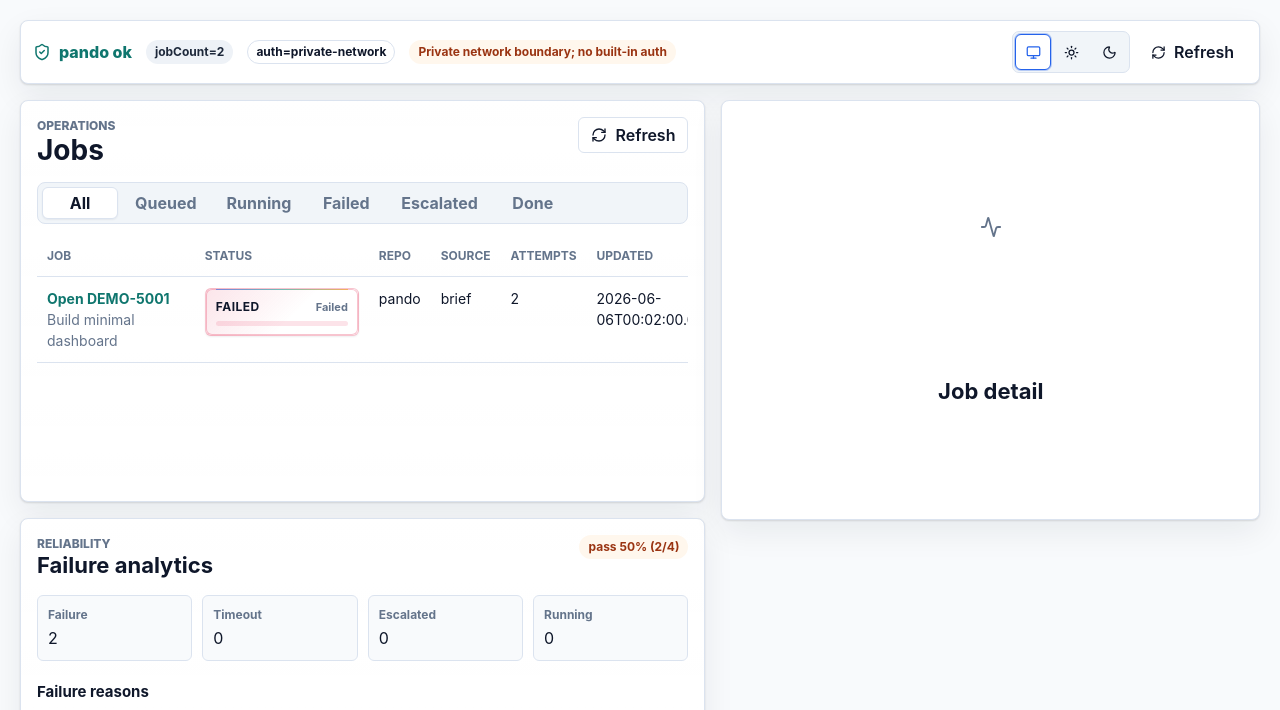
Scenario: DashboardApp › context strip renders above action row with current stage and branch (AC-4a)
Click the button "Open DEMO-5001" at (108,299), box left=47, top=292, right=170, bottom=306
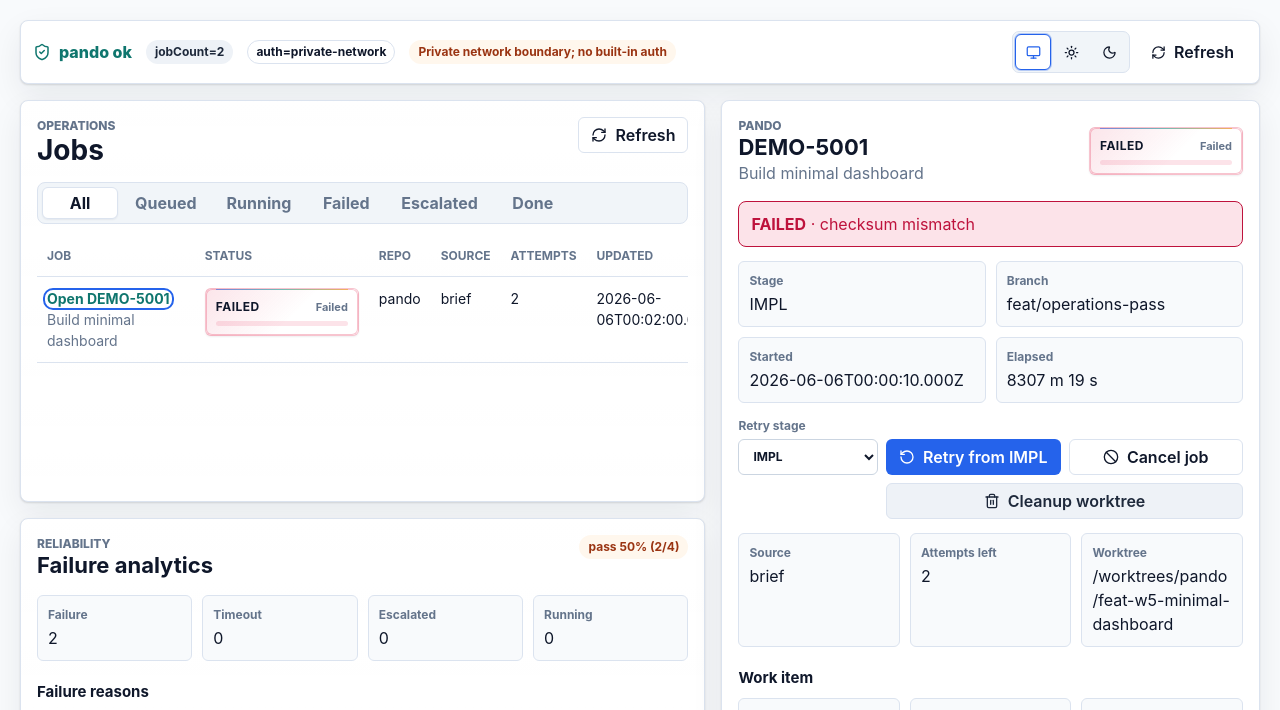
expect the element with test id "context-strip" is shown: met, box left=738, top=261, right=1243, bottom=403
expect the text "IMPL" is shown: met, box left=749, top=294, right=787, bottom=314
expect the text "feat/operations-pass" is shown: met, box left=1007, top=294, right=1165, bottom=314
